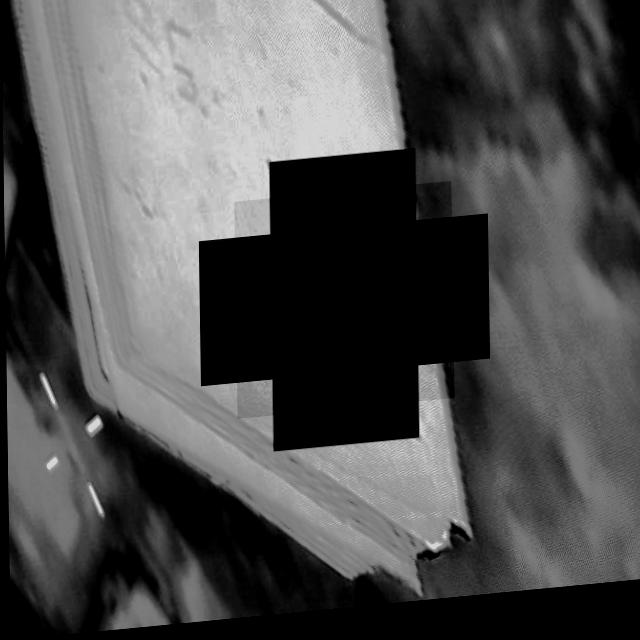qr_code: (233, 190, 452, 424)
